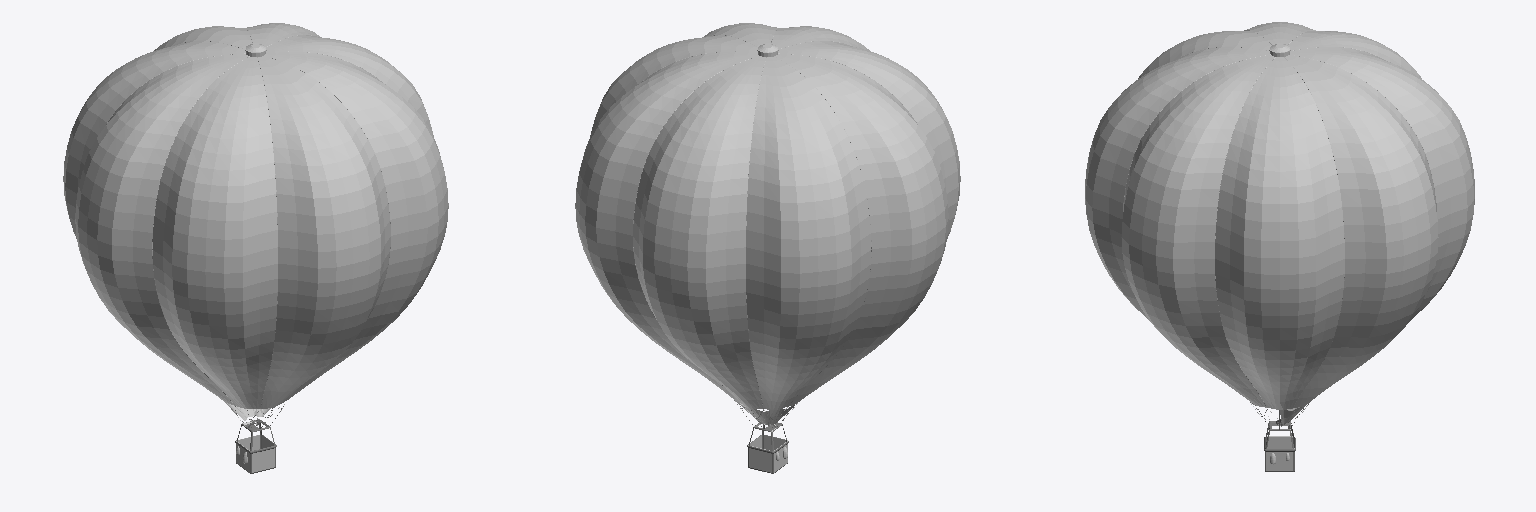
The model's file is texturedBalloon.obj.
3 renders of one model, left to right at view 1: azimuth 30°, elevation 25°; view 2: azimuth 150°, elevation 25°; view 3: azimuth 270°, elevation 25°, orthographic.
Parts seen in each view (by area): view 1: hot_air_baloon_4; view 2: hot_air_baloon_4; view 3: hot_air_baloon_4.
Boxes of the visible parts, <box> form: hot_air_baloon_4: <box>63,23,448,473</box>; hot_air_baloon_4: <box>575,23,960,473</box>; hot_air_baloon_4: <box>1085,22,1474,471</box>.
Size of the model in its own units: 8.03 by 9.53 by 8.03.